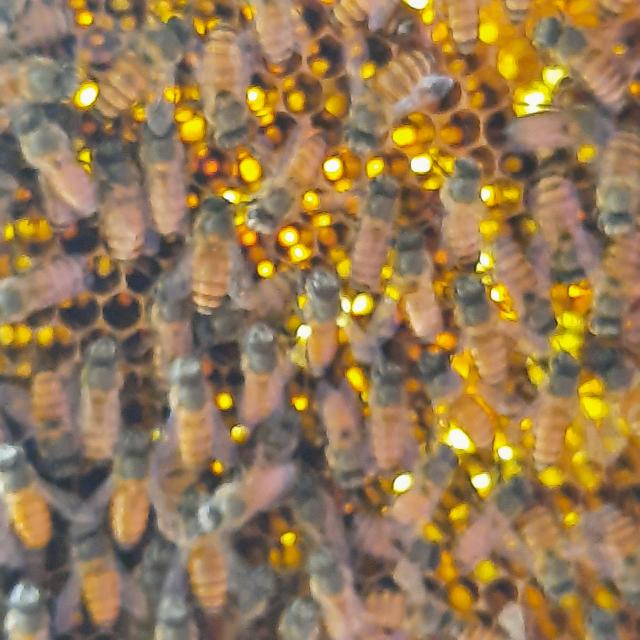honeybee: (86, 12, 192, 132), (9, 103, 106, 228), (534, 12, 640, 118), (344, 48, 432, 158), (242, 132, 332, 235), (412, 358, 507, 446), (386, 439, 462, 544), (351, 507, 447, 586), (449, 474, 535, 562), (0, 250, 92, 332), (186, 190, 244, 318), (30, 362, 88, 486), (489, 238, 560, 337), (137, 120, 193, 244), (68, 511, 124, 632), (526, 166, 586, 278), (197, 27, 252, 149), (97, 142, 148, 270), (166, 359, 223, 473), (454, 274, 511, 388), (0, 444, 59, 553), (114, 430, 163, 561), (312, 376, 368, 489), (518, 503, 583, 600), (77, 336, 123, 470), (585, 500, 640, 612), (347, 172, 398, 292), (396, 228, 444, 349), (308, 553, 374, 640), (368, 362, 416, 481), (441, 154, 492, 264), (216, 452, 298, 520), (502, 106, 612, 156), (301, 262, 346, 382), (360, 578, 446, 640), (588, 238, 640, 340), (534, 347, 576, 463), (240, 322, 283, 433), (600, 124, 640, 242), (0, 57, 88, 108), (194, 499, 230, 622), (153, 271, 192, 383), (249, 1, 302, 72), (0, 0, 78, 48), (5, 583, 58, 640), (324, 0, 406, 34), (446, 0, 484, 58), (150, 592, 195, 640), (441, 611, 505, 640)
